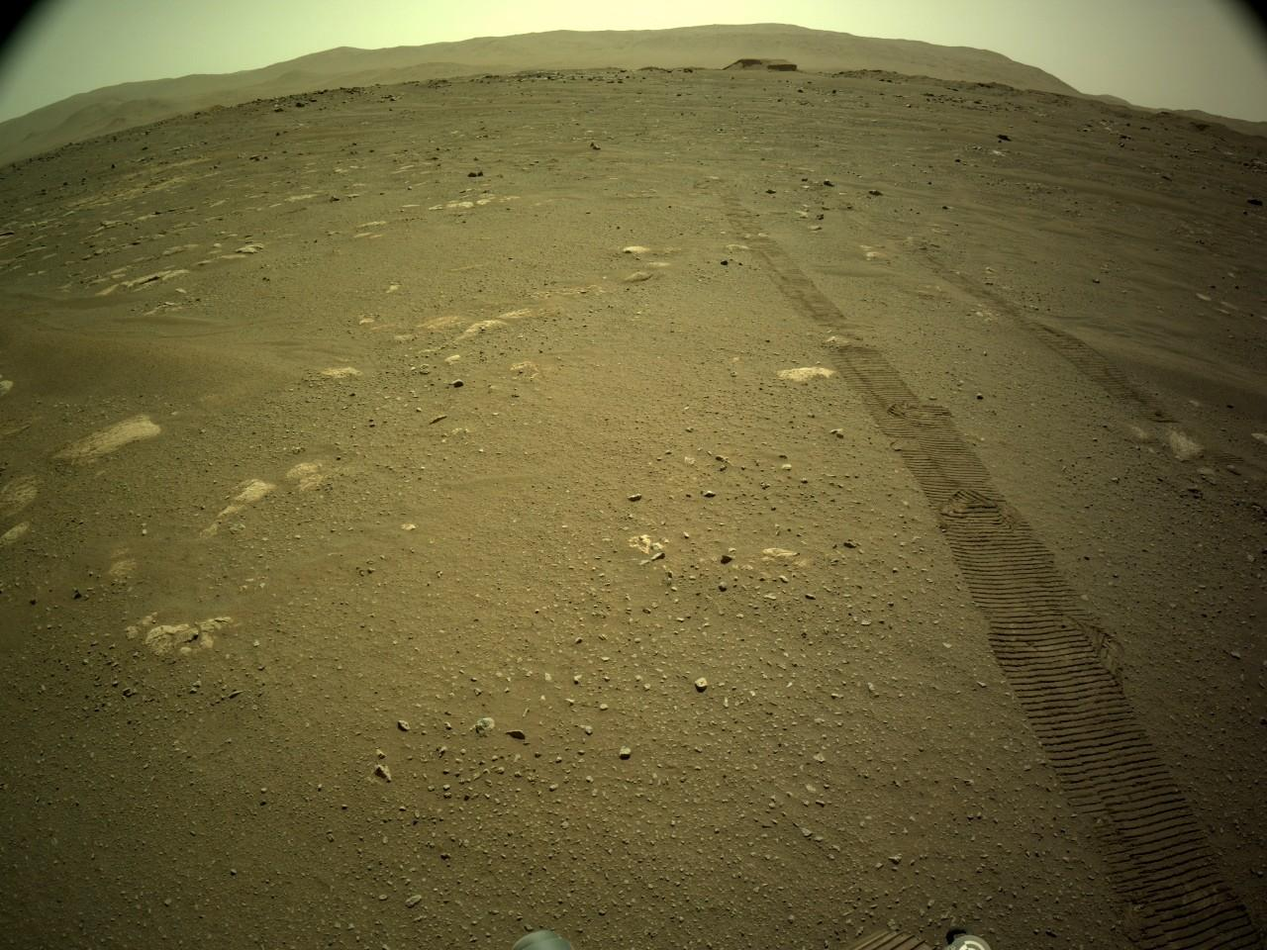bedrock: (31, 140, 390, 242), (1173, 131, 1258, 217), (53, 134, 174, 187), (410, 151, 476, 176), (988, 97, 1081, 113), (1, 518, 8, 575), (791, 159, 812, 164)
sand: (4, 429, 8, 521), (6, 574, 8, 753), (632, 167, 638, 169)
soil: (7, 110, 1260, 945), (39, 386, 122, 410), (1087, 114, 1172, 129)
